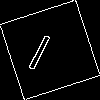I: (25, 25, 58, 72)
